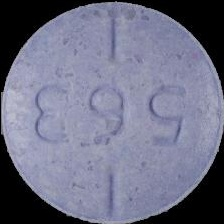68788-9168: (0, 0, 224, 224)
